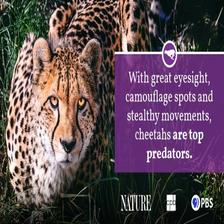Cheetah: (5, 0, 157, 208)
